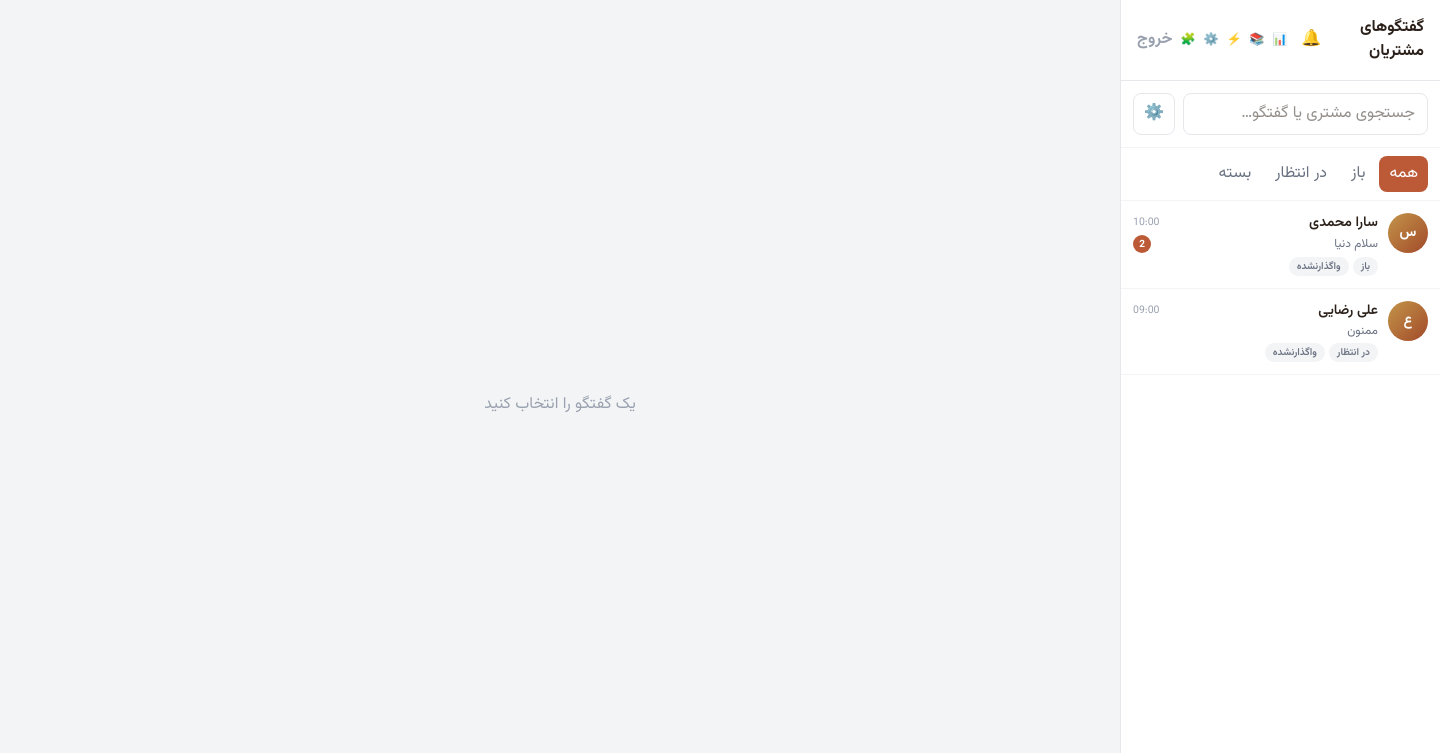
Test case: Operator dashboard — customer conversations page › renders a voice message with a play control
Click the text "سارا محمدی" at (1344, 223), box [1309,213,1378,233]
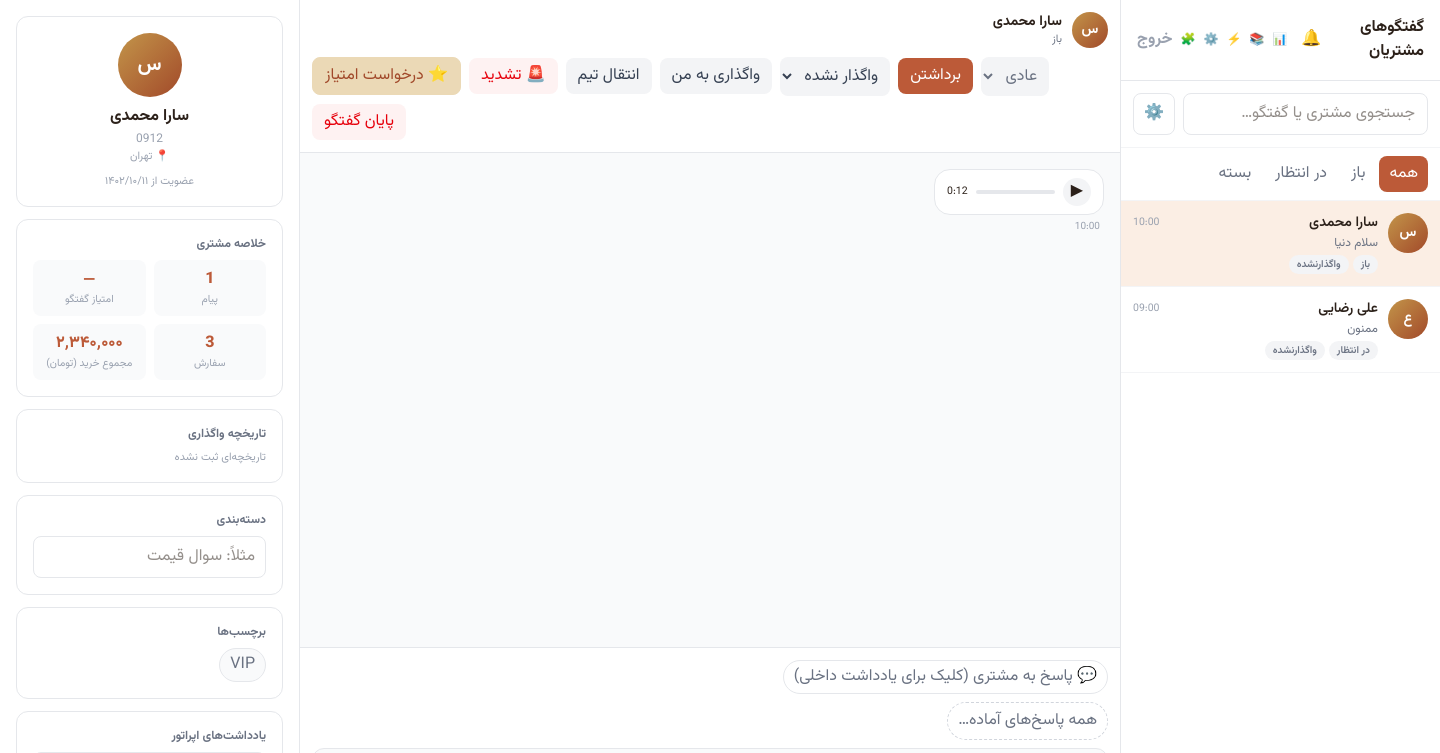
Check: the button "▶" is shown, box [1063,178,1091,206]
